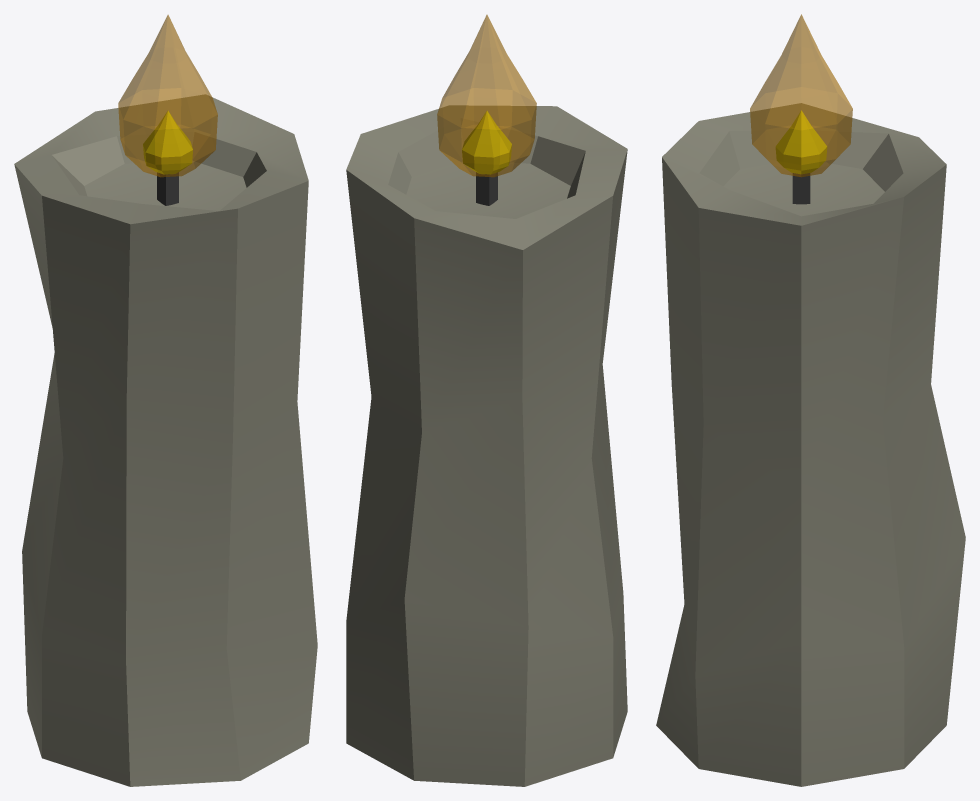
File: candle-on.fbx
The picture shows the model from 3 angles, left to right: view 1: azimuth 30°, elevation 25°; view 2: azimuth 150°, elevation 25°; view 3: azimuth 270°, elevation 25°; orthographic projection.
Parts seen in each view (by area): view 1: pCylinder3; view 2: pCylinder3; view 3: pCylinder3.
Part boxes in pixels (left/top/right/bottom): pCylinder3: left=14, top=15, right=317, bottom=786; pCylinder3: left=346, top=15, right=627, bottom=786; pCylinder3: left=656, top=14, right=965, bottom=786.
Bounding box in the file's own units: 2.01 × 5.4 × 2.13.
